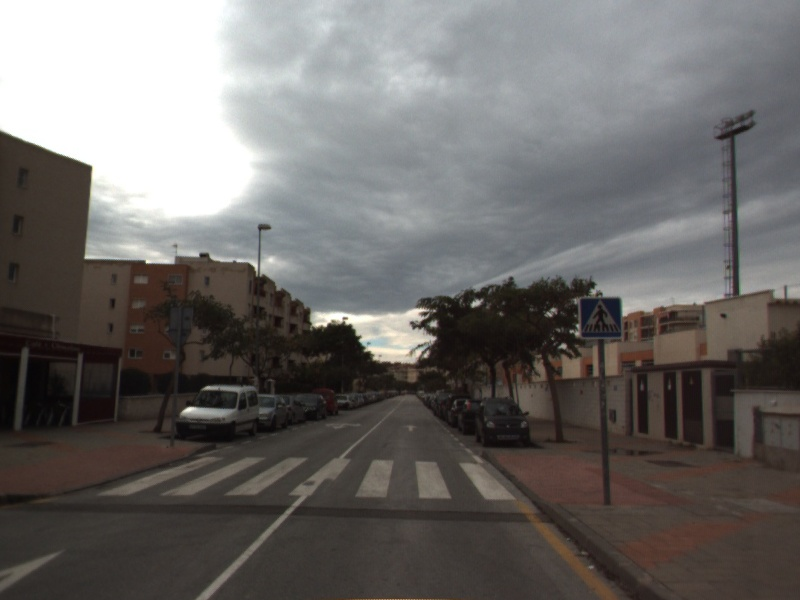STRAIGHT: (400, 422, 420, 434)
